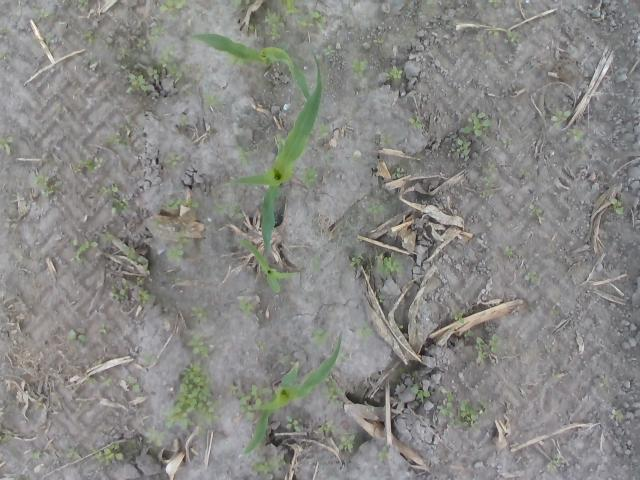Maize: (213, 53, 321, 258), (242, 334, 342, 456), (185, 33, 312, 102), (236, 237, 297, 296)
Weeds: (162, 359, 218, 436), (448, 399, 489, 428), (148, 48, 182, 80), (240, 384, 270, 420), (124, 247, 152, 275), (89, 443, 123, 465), (322, 375, 344, 408), (463, 112, 492, 137), (476, 333, 500, 363), (252, 453, 286, 474), (72, 238, 98, 264), (32, 174, 62, 196), (375, 251, 403, 273), (264, 11, 284, 41), (481, 163, 498, 198), (185, 333, 209, 357), (213, 201, 243, 219), (164, 196, 199, 210), (437, 388, 454, 416), (77, 156, 103, 174), (551, 108, 572, 130), (112, 277, 130, 301), (159, 0, 187, 15), (125, 74, 148, 92), (146, 428, 166, 448), (298, 167, 318, 186), (238, 296, 256, 316), (310, 328, 330, 346), (167, 243, 184, 264), (32, 6, 54, 22), (309, 8, 325, 30), (410, 386, 430, 403), (148, 24, 164, 45), (547, 454, 568, 470), (338, 434, 356, 452), (280, 0, 300, 16), (111, 197, 128, 215), (190, 305, 208, 322), (284, 415, 302, 432), (356, 322, 372, 341), (366, 202, 386, 217), (352, 57, 366, 78), (456, 138, 472, 156), (0, 136, 14, 156), (318, 420, 338, 434), (202, 92, 218, 109), (227, 52, 244, 68), (237, 146, 250, 166), (450, 307, 466, 323), (609, 198, 624, 215), (105, 136, 128, 147), (384, 66, 402, 80), (174, 231, 194, 243), (117, 118, 134, 132), (315, 123, 331, 137), (568, 128, 584, 142), (228, 384, 245, 397), (68, 329, 86, 341), (42, 33, 56, 48), (136, 289, 150, 304), (99, 230, 118, 241), (164, 154, 181, 166), (349, 253, 364, 266), (408, 116, 423, 129), (128, 376, 140, 392), (378, 445, 389, 462), (66, 447, 81, 459), (296, 18, 314, 28), (118, 46, 130, 60), (508, 30, 520, 44), (524, 272, 538, 284), (379, 133, 394, 144), (82, 32, 95, 44), (312, 253, 321, 270), (609, 410, 624, 420), (100, 186, 118, 194), (136, 37, 146, 51), (322, 44, 336, 54), (528, 204, 542, 214), (86, 374, 97, 386), (488, 24, 499, 36), (99, 376, 112, 386), (276, 132, 284, 148), (280, 358, 296, 366), (114, 62, 128, 71), (0, 424, 6, 444), (142, 354, 154, 364), (504, 245, 516, 255), (34, 396, 42, 410), (0, 50, 11, 60), (548, 305, 558, 316), (392, 167, 402, 178), (180, 116, 190, 126), (231, 0, 251, 5), (98, 323, 107, 334), (78, 0, 90, 8), (488, 0, 500, 8), (32, 450, 41, 460), (182, 62, 191, 72), (248, 23, 258, 32), (256, 339, 264, 350), (476, 34, 484, 44), (376, 294, 384, 304), (502, 138, 512, 146), (405, 372, 415, 380), (102, 40, 110, 49), (136, 276, 144, 285), (520, 168, 530, 175), (338, 355, 349, 361), (364, 266, 372, 274), (464, 330, 472, 338), (0, 25, 8, 33), (550, 368, 556, 378), (325, 154, 331, 164), (578, 146, 586, 152), (396, 323, 404, 329), (376, 38, 384, 44), (352, 154, 358, 162), (426, 0, 437, 3)
